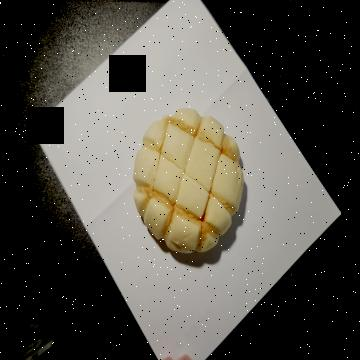melon_bread: (132, 109, 245, 259)
